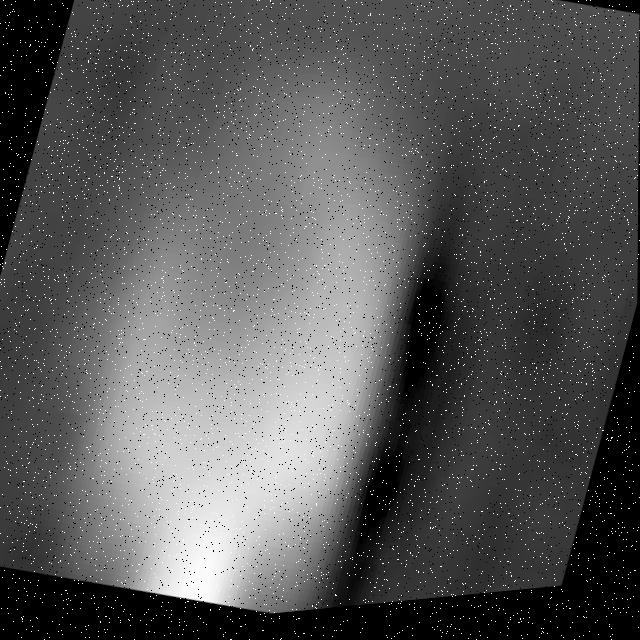person: (39, 16, 464, 638)
